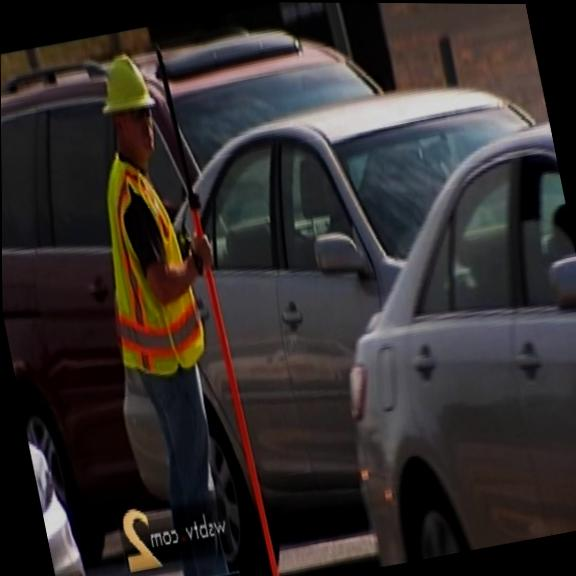safety_vest: (77, 142, 215, 389)
